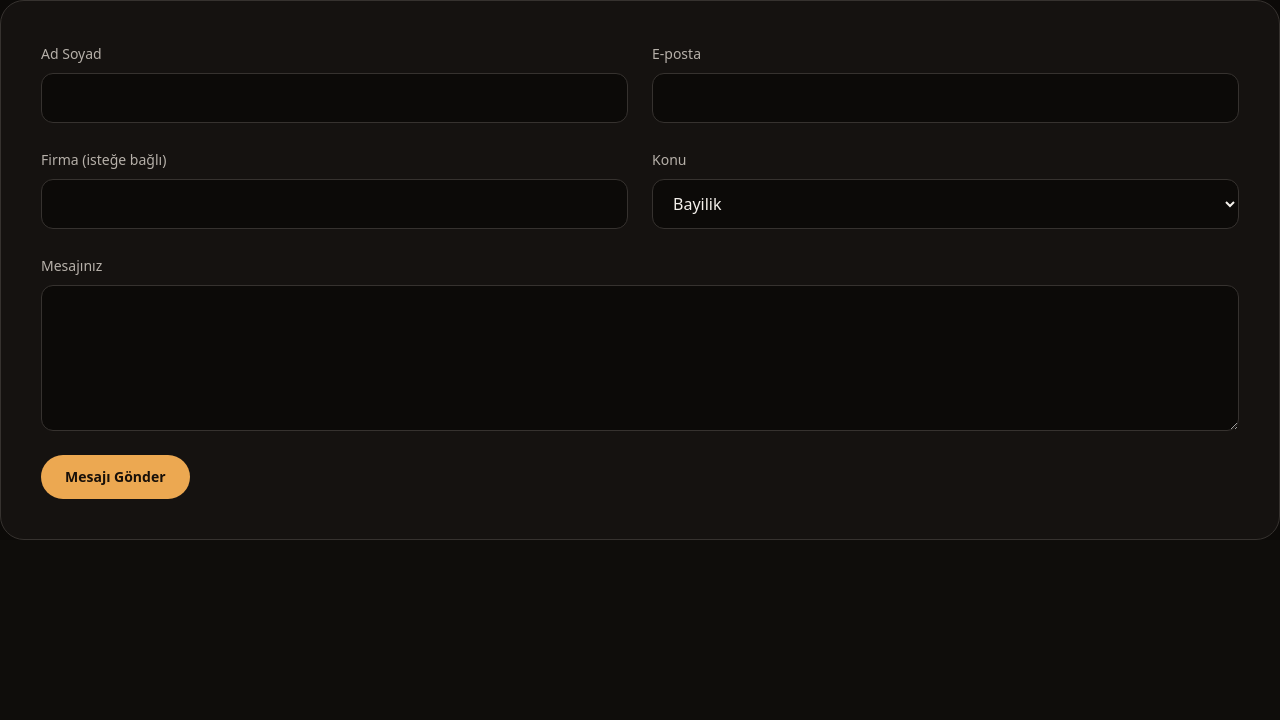
Test: ContactForm › eksik alanlarda hata gösterir ve API'ye istek atmaz
This screenshot has width=1280, height=720.
Step 1. Click the button "Mesajı Gönder" → [115, 477], box [41,455,190,499]
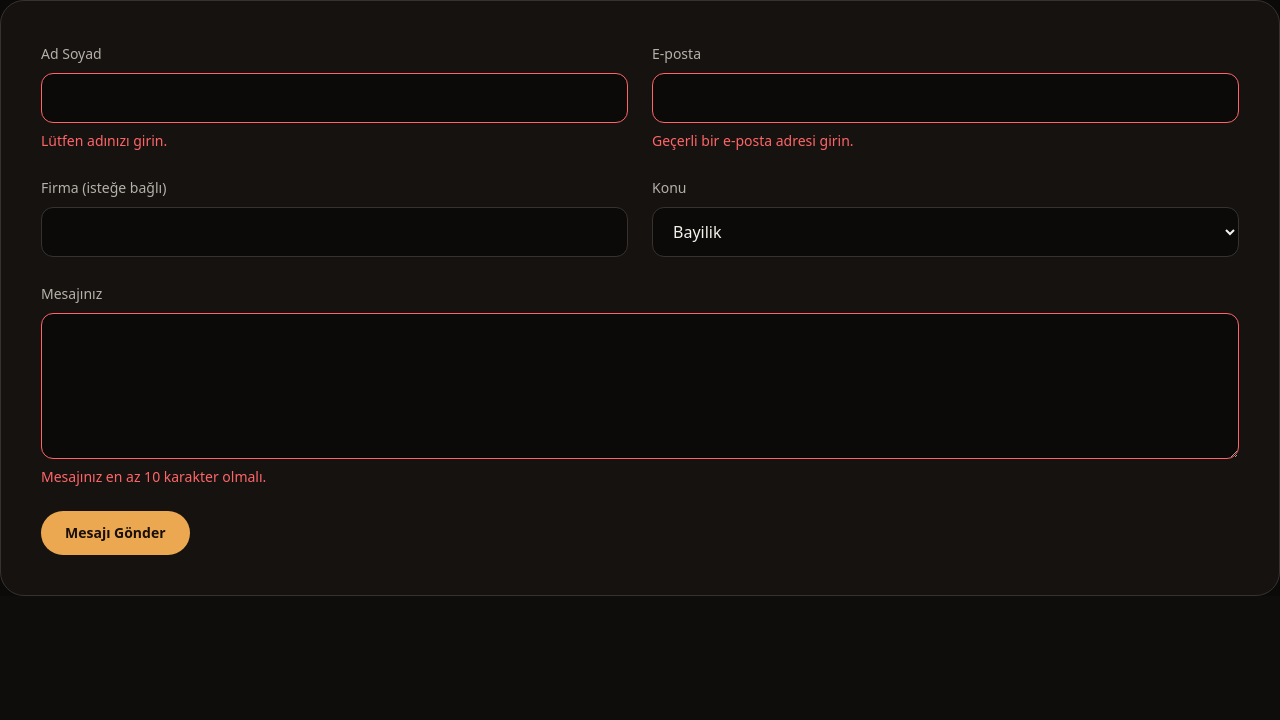
expect the text "Lütfen adınızı girin." is shown: met, box [41,131,167,150]
expect the text "Geçerli bir e-posta adresi girin." is shown: met, box [652,131,854,150]
